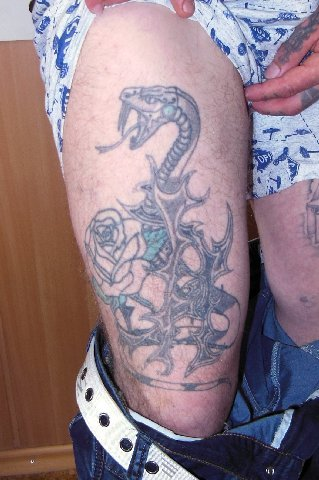tatu7_zmeya: (90, 69, 258, 388)
